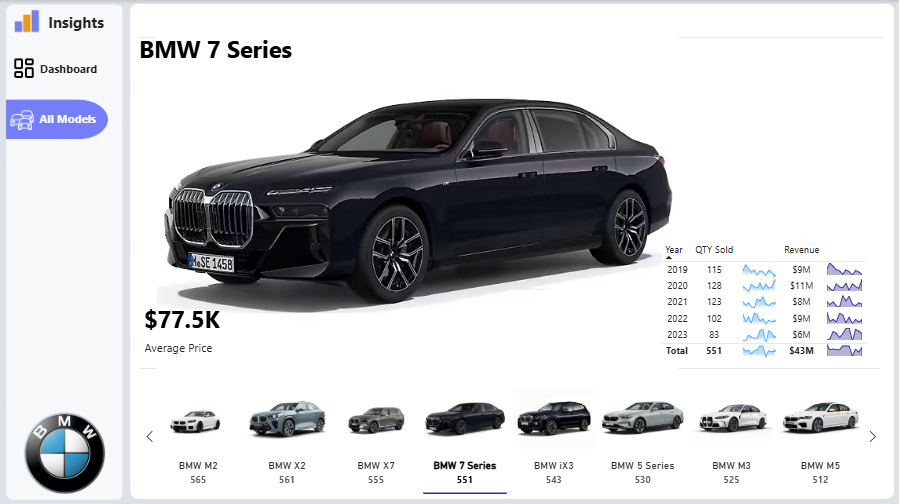

Layout of this report page (visuals, bound fields, positions):
{"tool":"powerbi","page":{"name":" All Models","canvas":[1280,720],"ordinal":1},"visuals":[{"type":"advancedSlicerVisual","fields":{"Values":["Dim Model.Model"]},"box":[199.8,529.4,1056,175.5],"z":0},{"type":"advancedSlicerVisual","fields":{"Values":["Dim Model.Model"]},"box":[198.4,27.1,792,502.3],"z":1000},{"type":"shape","box":[199.8,28.5,479.5,79.9],"z":2000},{"type":"shape","box":[206.9,410.6,176.9,79.9],"z":3000},{"type":"textbox","box":[202.6,476.2,134.1,35.7],"z":4000},{"type":"tableEx","fields":{"Values":["Calender.Year","All Measures.QTY Sold","All Measures.Opaque Area Sparkline (no one value) bright","All Measures.Revenue","All Measures.Revenue Sparkline"]},"box":[940.4,338.2,329.6,191.2],"z":5000},{"type":"textbox","box":[51.4,157,95.6,30],"z":6000},{"type":"image","box":[5.7,148.4,57.1,42.8],"z":7000},{"type":"textbox","box":[52.4,87,95.6,30],"z":8000},{"type":"image","box":[11,75.6,51.4,42.8],"z":9000},{"type":"actionButton","box":[11.4,71.3,165.5,54.2],"z":10000},{"type":"image","box":[12.8,579.7,163,124.7],"z":11000},{"type":"textbox","box":[62.4,17,96.4,29.8],"z":12000},{"type":"image","box":[2.8,4.3,75.1,48.2],"z":13000}]}

Visuals, with their boxes on the page's 1280x720 design canvas (x1, y1, x2, y2). These are canvas units, not pixel positions in the 899x504 screenshot, which may show the page scaled, cropped or inside an application window:
advancedSlicerVisual - Dim Model.Model: x1=200 y1=529 x2=1256 y2=705
advancedSlicerVisual - Dim Model.Model: x1=198 y1=27 x2=990 y2=529
shape: x1=200 y1=28 x2=679 y2=108
shape: x1=207 y1=411 x2=384 y2=490
textbox: x1=203 y1=476 x2=337 y2=512
tableEx - Calender.Year x All Measures.QTY Sold: x1=940 y1=338 x2=1270 y2=529
textbox: x1=51 y1=157 x2=147 y2=187
image: x1=6 y1=148 x2=63 y2=191
textbox: x1=52 y1=87 x2=148 y2=117
image: x1=11 y1=76 x2=62 y2=118
actionButton: x1=11 y1=71 x2=177 y2=126
image: x1=13 y1=580 x2=176 y2=704
textbox: x1=62 y1=17 x2=159 y2=47
image: x1=3 y1=4 x2=78 y2=52
